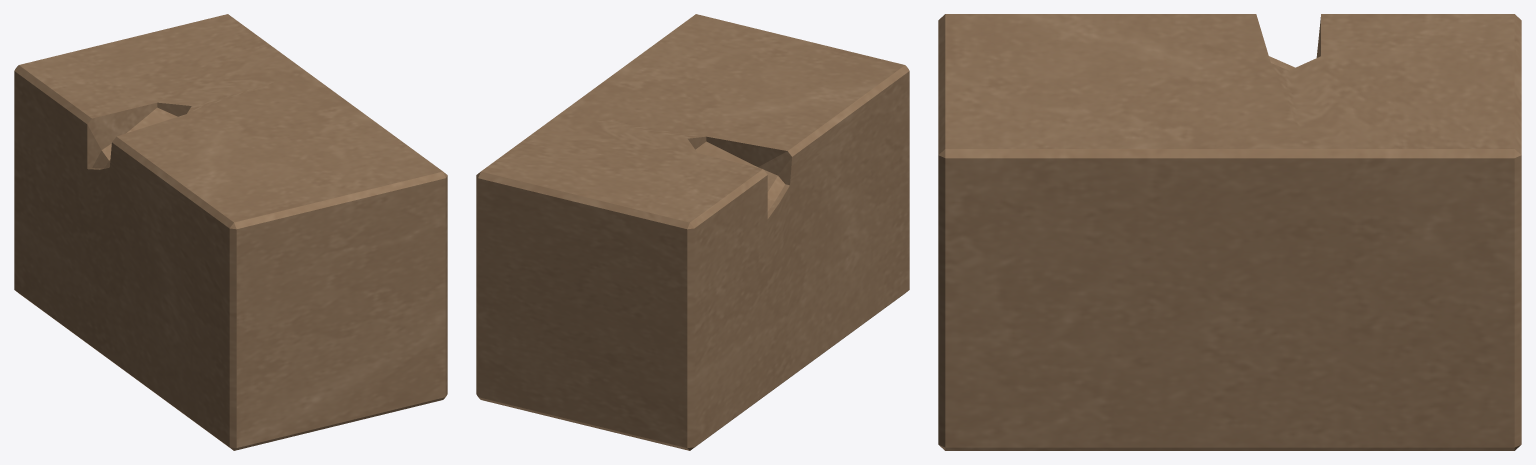
Rendered from Brick_Cracked_v3.FBX.
3 views of the same model, side by side, from view 1: azimuth 30°, elevation 25°; view 2: azimuth 150°, elevation 25°; view 3: azimuth 270°, elevation 25° (orthographic). The views are drawn at different scales.
Parts seen in each view (by area): view 1: Brick_004; view 2: Brick_004; view 3: Brick_004.
Part boxes in pixels (x1=…): Brick_004: x1=14, y1=14, x2=447, y2=450; Brick_004: x1=476, y1=14, x2=909, y2=450; Brick_004: x1=938, y1=14, x2=1521, y2=450.
Size of the model in its own units: 24 by 24 by 42.
